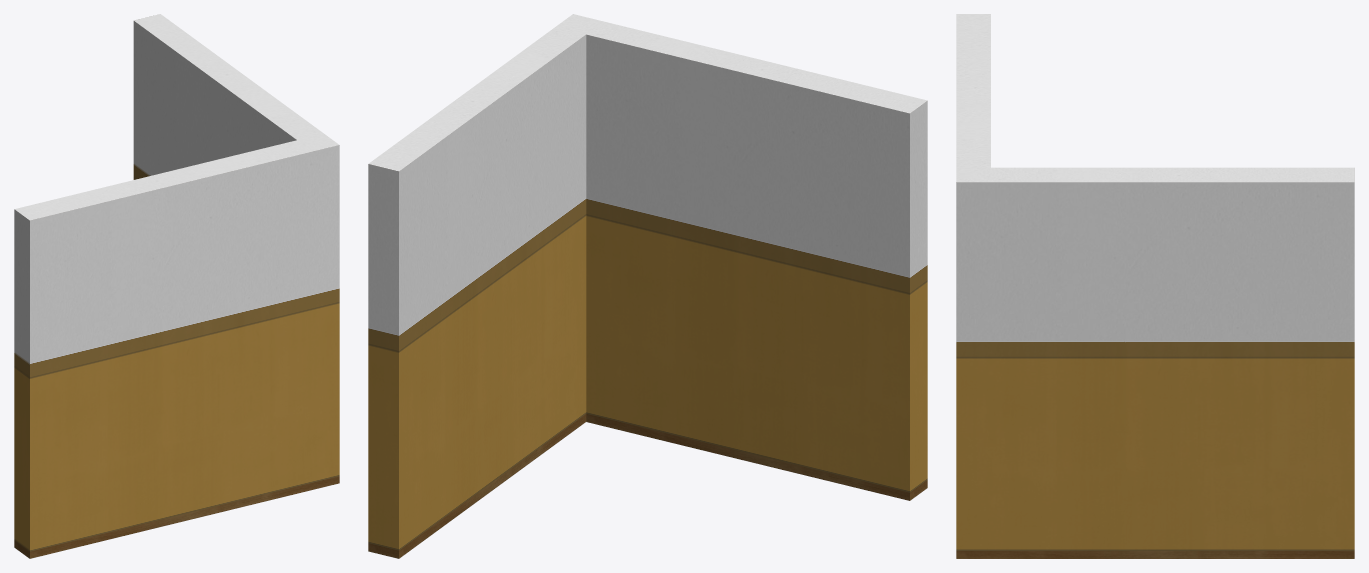
The model's file is Corner.fbx.
The picture shows the model from 3 angles, left to right: view 1: azimuth 30°, elevation 25°; view 2: azimuth 150°, elevation 25°; view 3: azimuth 270°, elevation 25°; orthographic projection. The views are drawn at different scales.
Parts seen in each view (by area): view 1: Corner; view 2: Corner; view 3: Corner.
Boxes of the visible parts, <box> form: Corner: <box>14,14,339,558</box>; Corner: <box>368,14,927,558</box>; Corner: <box>956,14,1354,558</box>.
Bounding box in the file's own units: 2.3 × 2.4 × 2.3.
Materials: 1 (1 with a texture image).
